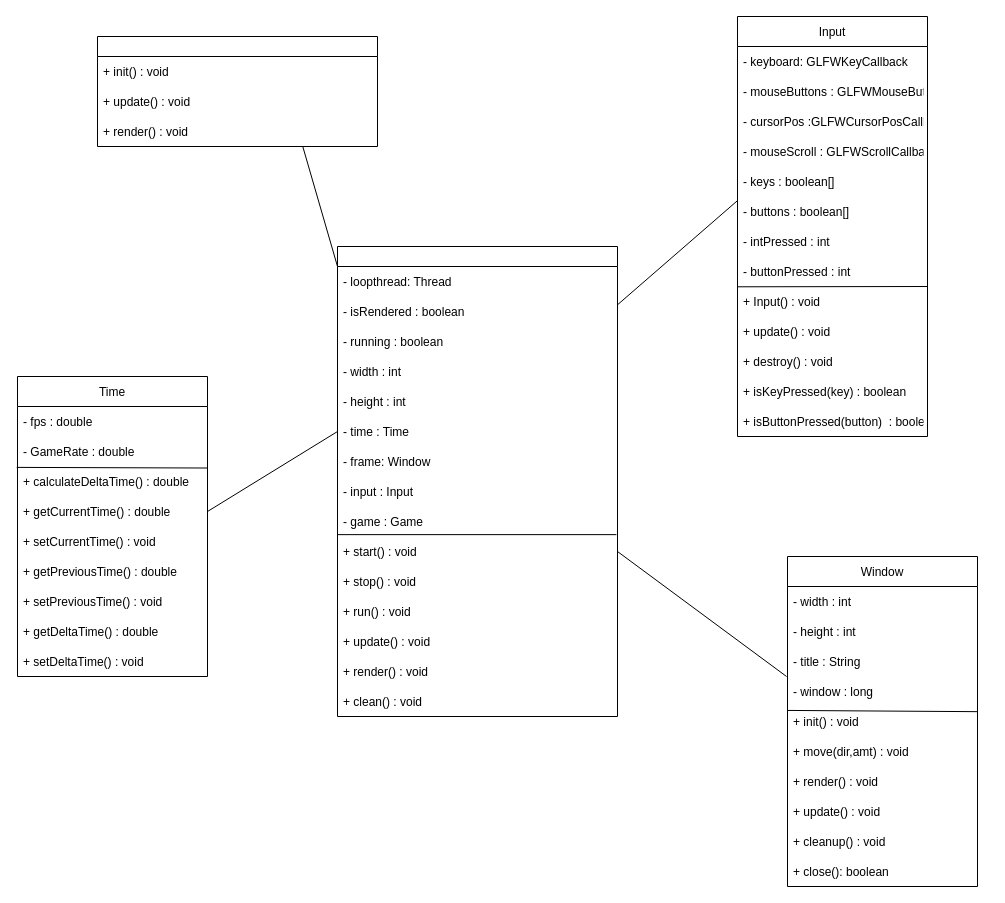
The diagram is 1005 pixels wide and 903 high, and some of its shapes have lost their labels. The shapes that lost their labels are listed below. From the top down, each one's box as (x1, y1, x2, y2) in pixels, then its label:
(96, 36, 378, 146): Game
(336, 246, 618, 716): EngineCore
